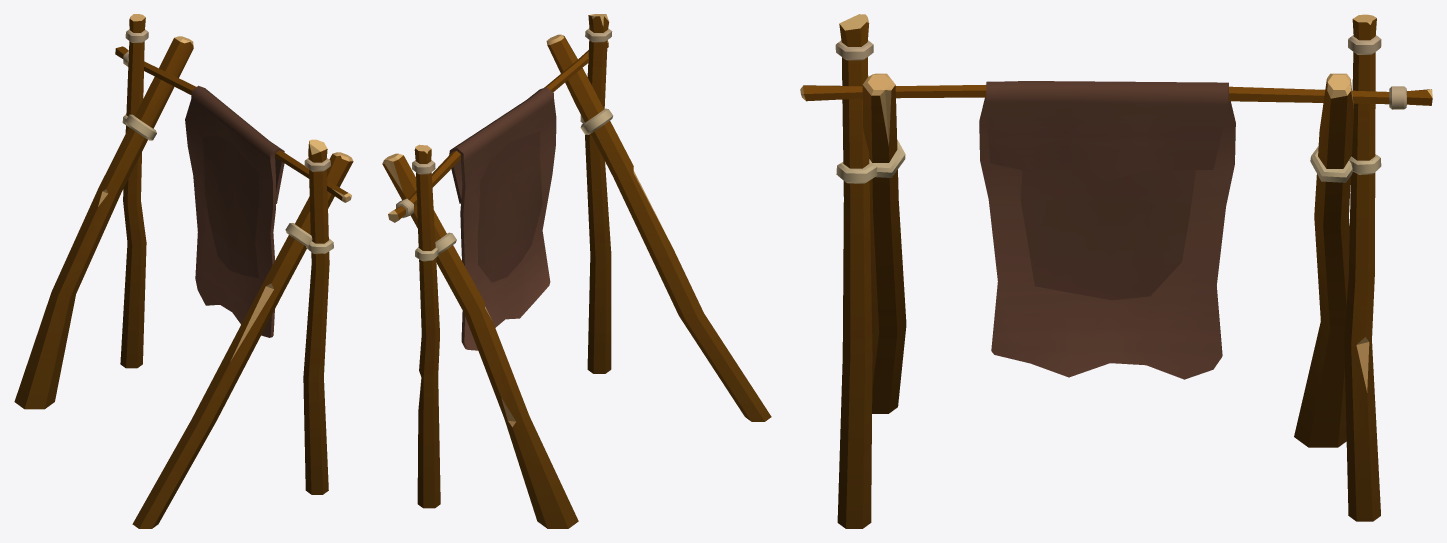
File: SkinHang_C.glb
3 renders of one model, left to right at view 1: azimuth 30°, elevation 25°; view 2: azimuth 150°, elevation 25°; view 3: azimuth 270°, elevation 25°, orthographic. The views are drawn at different scales.
Parts seen in each view (by area): view 1: SkinHang_C; view 2: SkinHang_C; view 3: SkinHang_C.
Part boxes in pixels (x1,y1,x2,y2): SkinHang_C: [14, 14, 353, 528]; SkinHang_C: [382, 14, 771, 528]; SkinHang_C: [800, 14, 1432, 528].
Bounding box in the file's own units: 1.21 × 1.86 × 2.11.
1 material, 1 textured.
